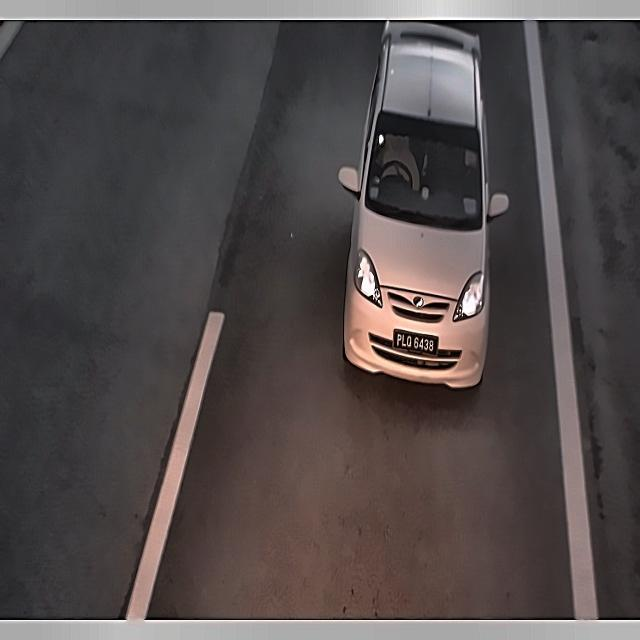car: (392, 319, 439, 365)
